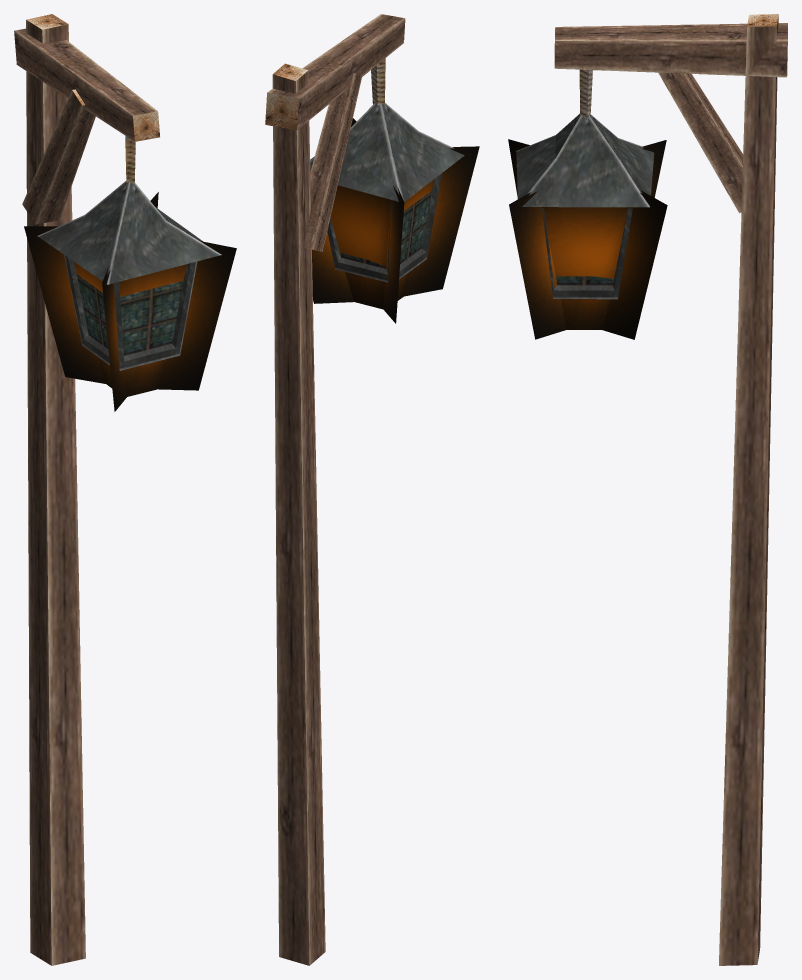
File: lightpole.obj
3 views of the same model, side by side, from view 1: azimuth 30°, elevation 25°; view 2: azimuth 150°, elevation 25°; view 3: azimuth 270°, elevation 25° (orthographic). The views are drawn at different scales.
Visible parts, largest first — view 1: Lightpole; view 2: Lightpole; view 3: Lightpole.
Boxes of the visible parts, x1,y1,x2,y2 form: Lightpole: (14,14,236,965); Lightpole: (265,14,479,965); Lightpole: (508,14,787,965).
Size of the model in its own units: 25.46 by 166 by 45.01.
2 materials, 2 textured.
